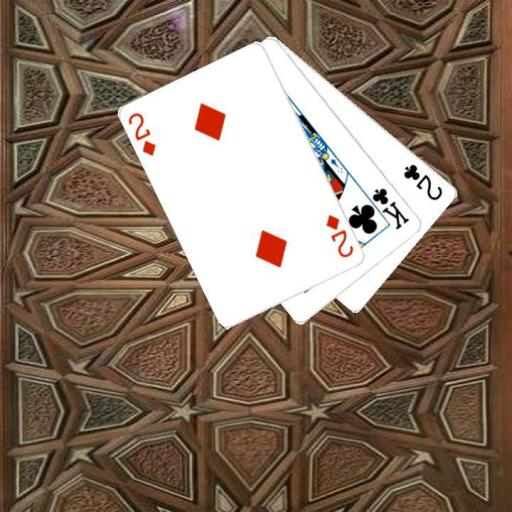2C: (401, 161, 445, 203)
2D: (125, 109, 158, 158), (323, 211, 355, 260)
KC: (361, 185, 411, 232)
